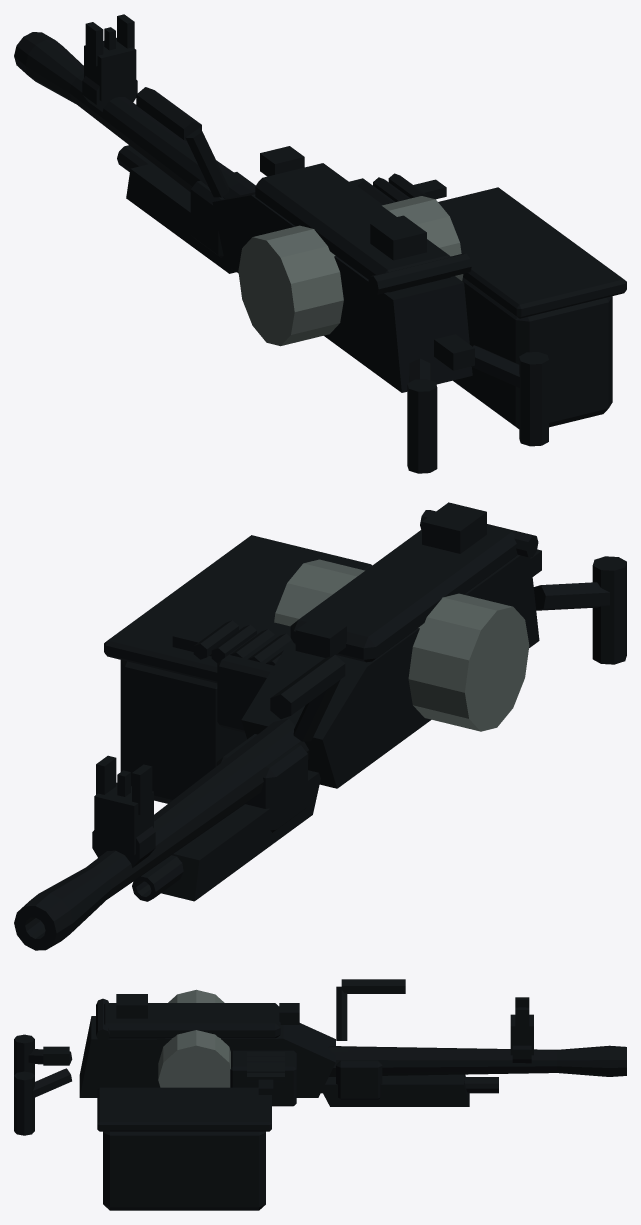
The model's file is Gun762__Pitch.obj.
The picture shows the model from 3 angles, top to bottom: view 1: azimuth 30°, elevation 25°; view 2: azimuth 150°, elevation 25°; view 3: azimuth 270°, elevation 25°; orthographic projection. The views are drawn at different scales.
Parts seen in each view (by area): view 1: Gun762_pitch, Pitch_trunnion; view 2: Gun762_pitch, Pitch_trunnion; view 3: Gun762_pitch, Pitch_trunnion.
Boxes of the visible parts, x1=… form: Gun762_pitch: x1=14, y1=14, x2=626, y2=473; Pitch_trunnion: x1=238, y1=196, x2=463, y2=346; Gun762_pitch: x1=14, y1=502, x2=626, y2=950; Pitch_trunnion: x1=274, y1=559, x2=529, y2=731; Gun762_pitch: x1=14, y1=979, x2=626, y2=1210; Pitch_trunnion: x1=158, y1=989, x2=230, y2=1087.
Size of the model in its own units: 0.444 by 0.3311 by 1.21.
